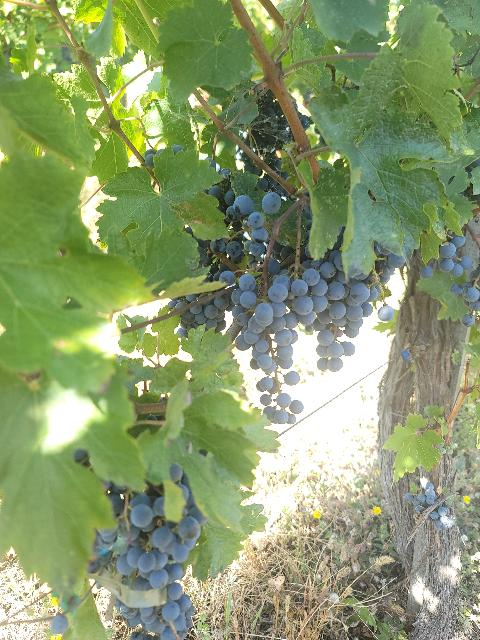grapes: (89, 465, 206, 640), (232, 274, 302, 424), (316, 250, 380, 371), (290, 269, 328, 325)
